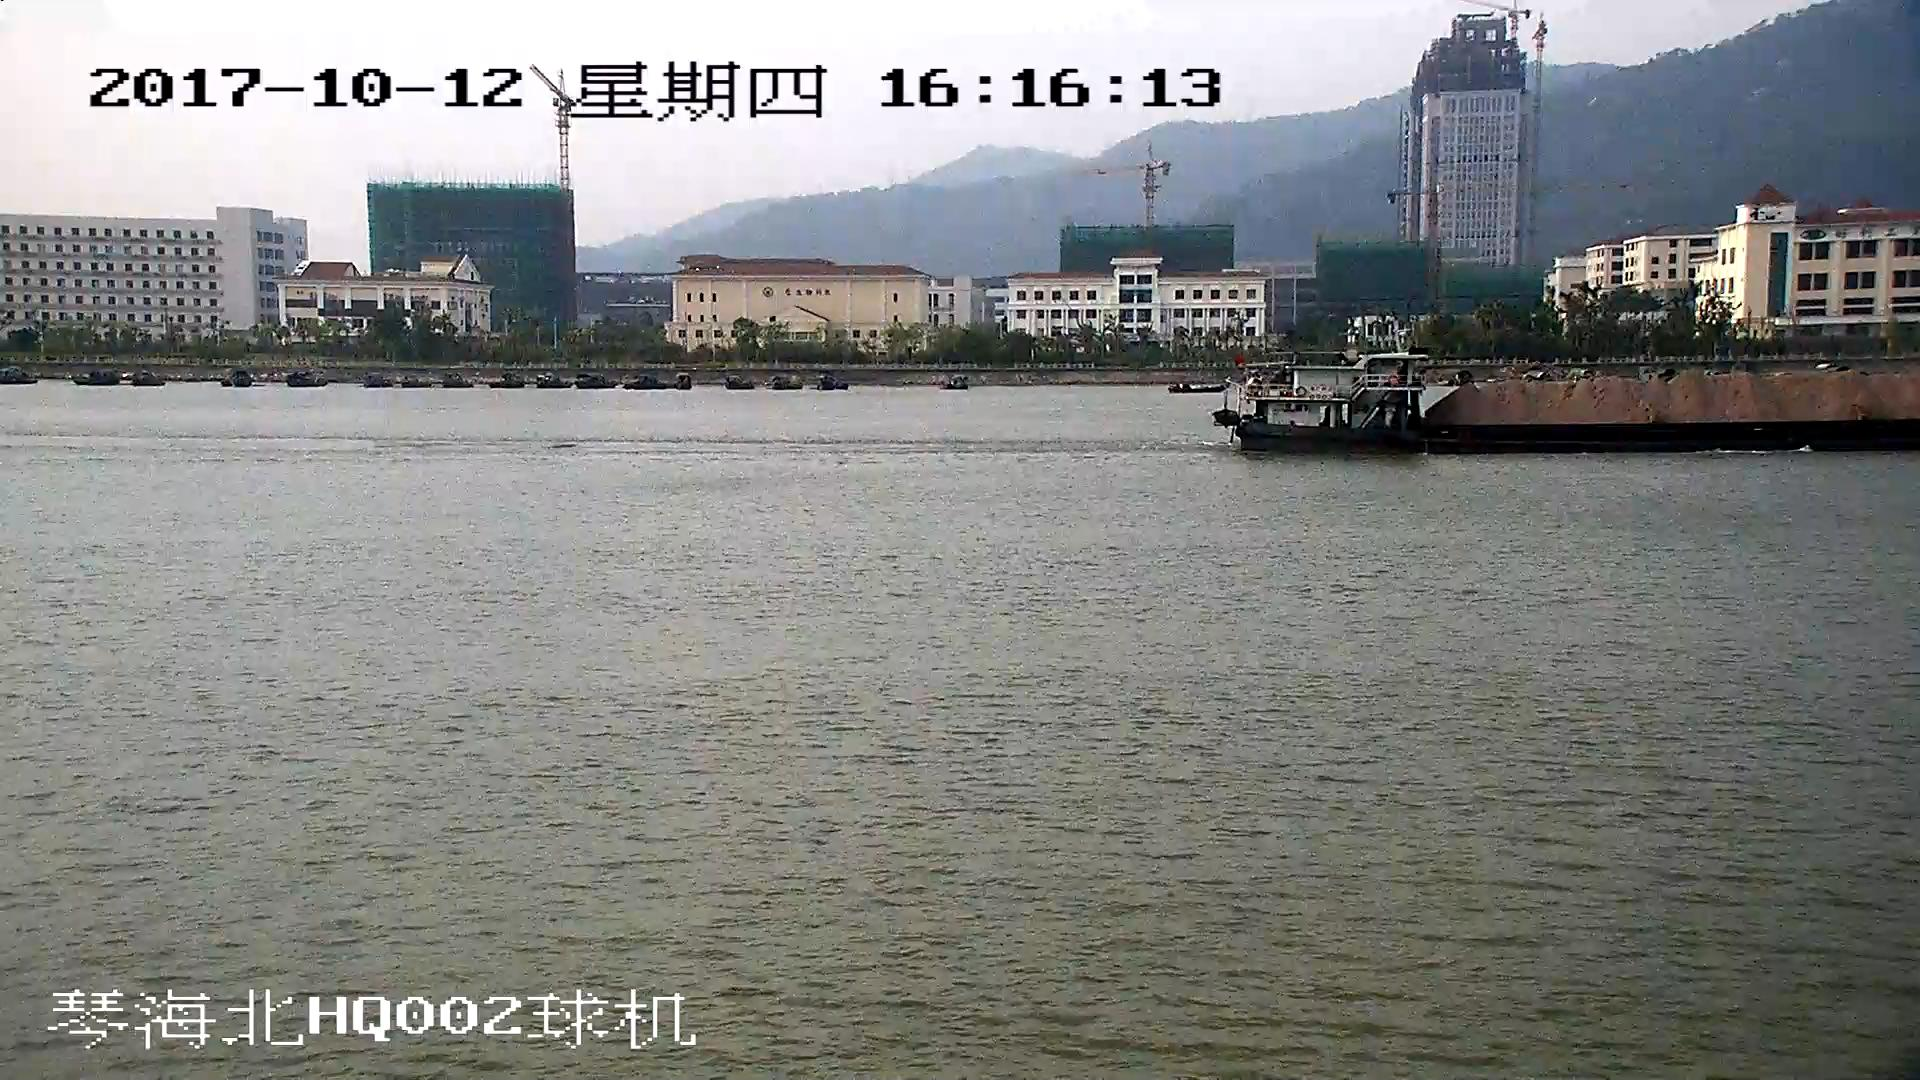ore carrier: (1210, 355, 1920, 459)
